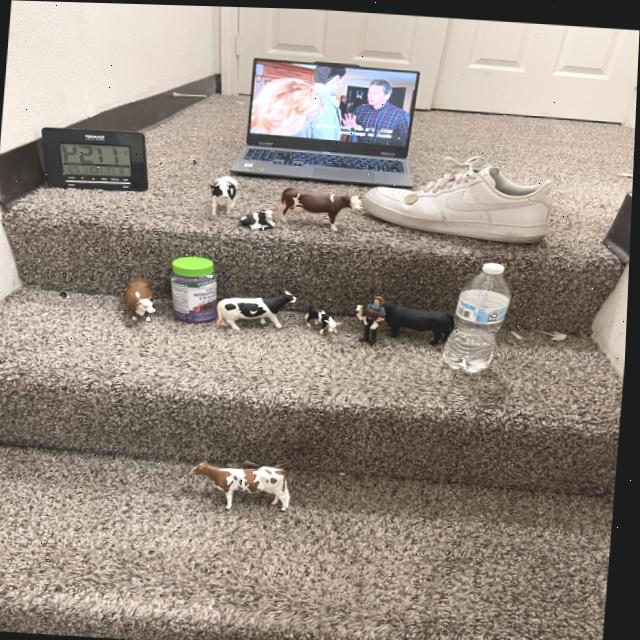cow: (191, 458, 297, 513), (278, 184, 365, 231), (380, 297, 459, 346), (218, 289, 301, 331), (124, 274, 160, 323), (303, 300, 345, 339), (211, 173, 239, 215), (353, 301, 388, 330), (239, 206, 278, 232)
person: (370, 292, 388, 312)
